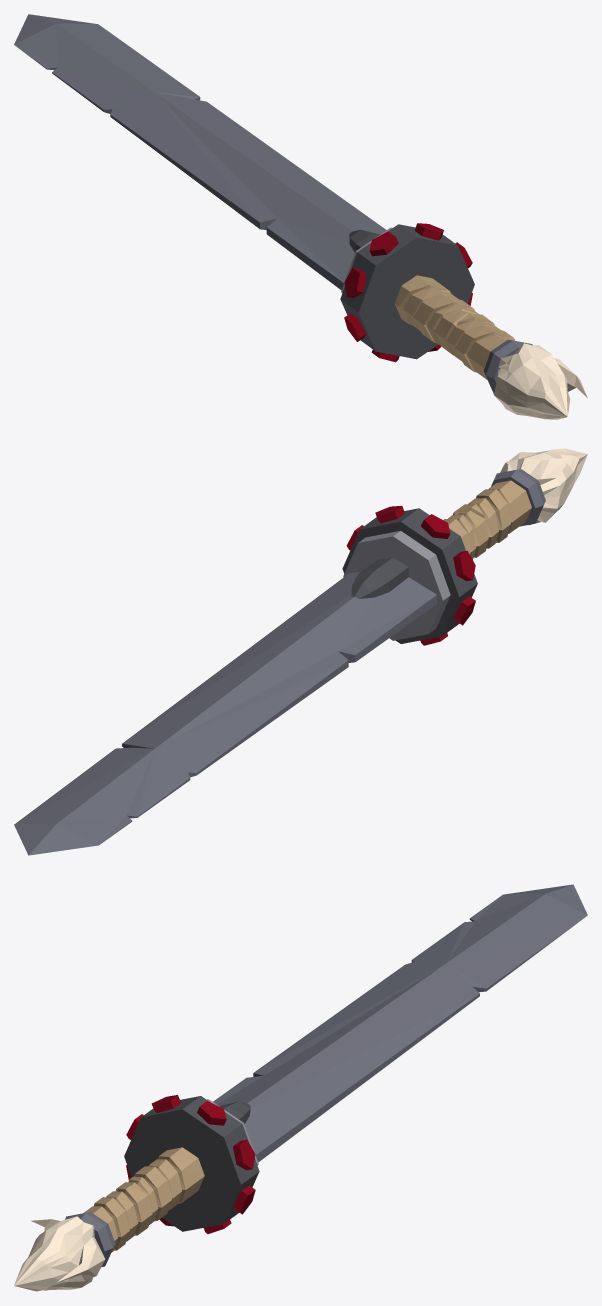
File: sword_3.glb
3 renders of one model, top to bottom at view 1: azimuth 30°, elevation 25°; view 2: azimuth 150°, elevation 25°; view 3: azimuth 330°, elevation 25°, orthographic.
Visible parts, largest first — view 1: sword_3; view 2: sword_3; view 3: sword_3.
Part boxes in pixels (x1,y1,x2,y2): sword_3: (14,14,587,419); sword_3: (14,448,587,855); sword_3: (14,884,587,1291).
Size of the model in its own units: 0.1121 by 0.1112 by 0.8617.
Materials: 1 (1 with a texture image).
